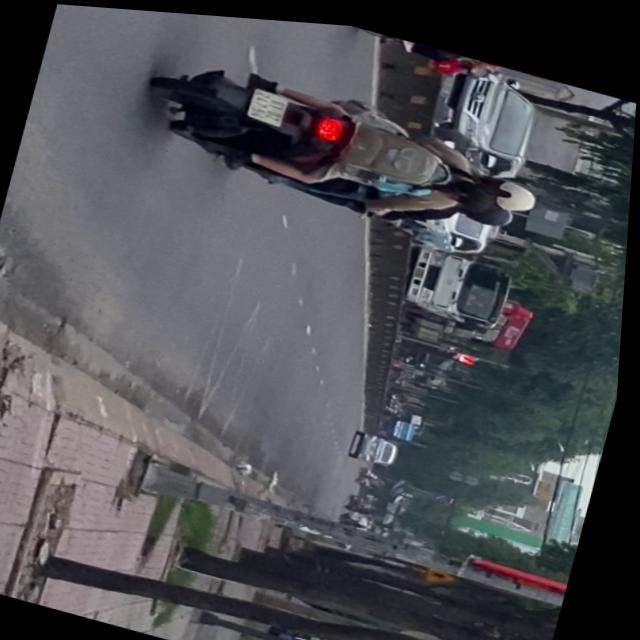helmet: (478, 164, 543, 209), (465, 187, 519, 223)
licenseplate: (131, 39, 560, 250), (348, 21, 555, 83)
motorcyclist: (446, 171, 499, 207)
nohelmet: (246, 83, 289, 123)
